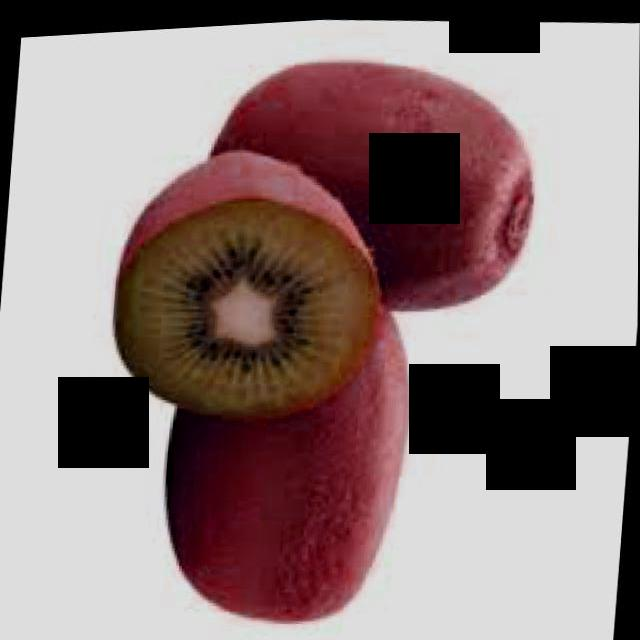kiwi: (191, 28, 553, 338), (149, 254, 428, 639)
